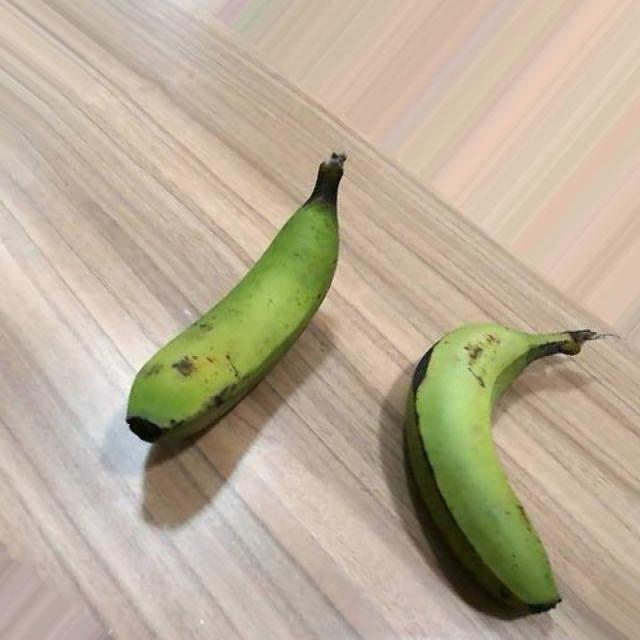Unripe: (126, 151, 349, 444), (406, 319, 592, 619)
